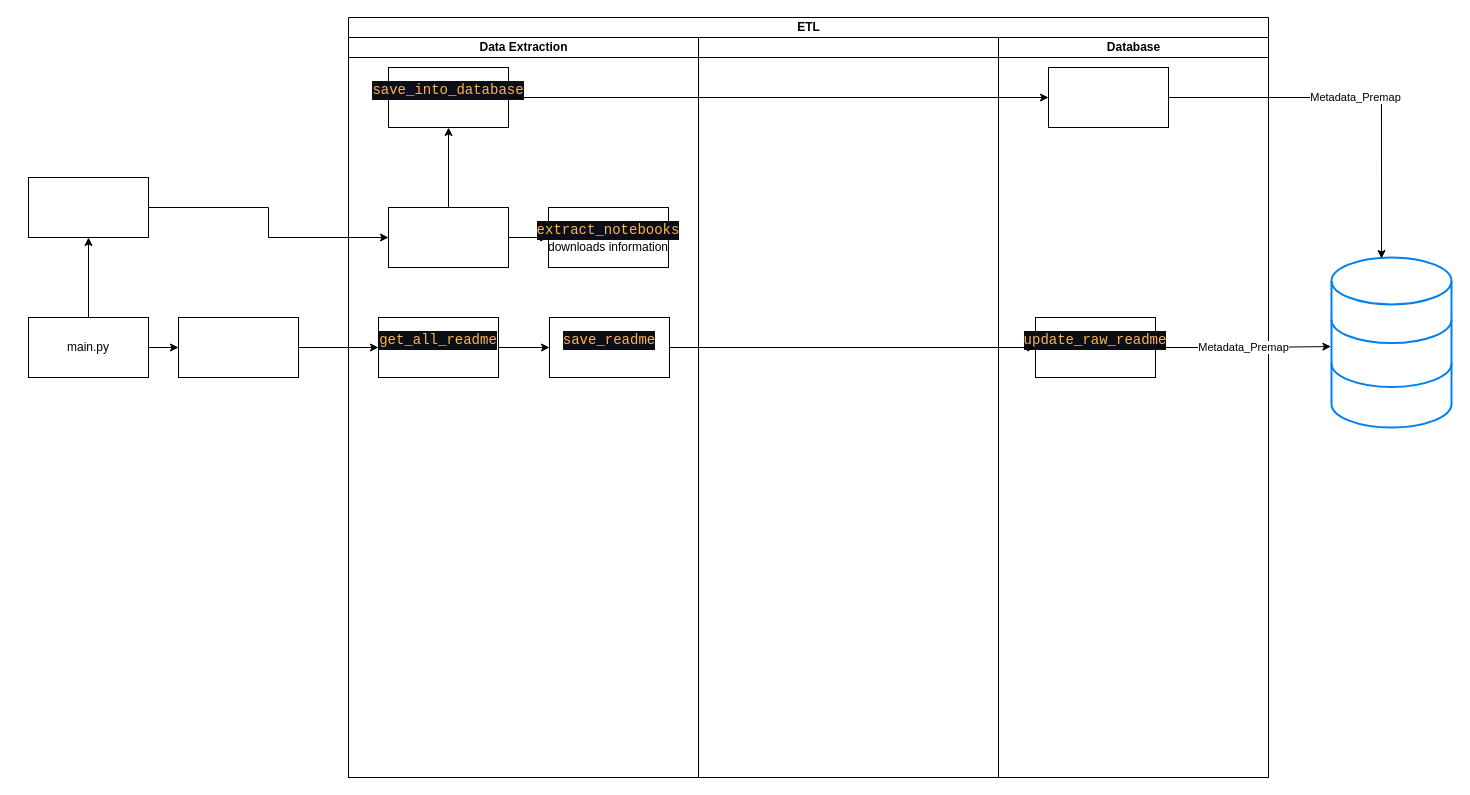
Some shapes in this 1470 by 795 pixel diagram are drawn without their labels. Each missing label, with the box of its shape:
Data Transformation: (698, 36, 998, 778)
extract_notebooks: (28, 176, 148, 238)
extract_readme: (178, 316, 298, 378)
extract_save_notebooks: (388, 206, 508, 268)
update_insert_readme: (1048, 66, 1168, 128)
